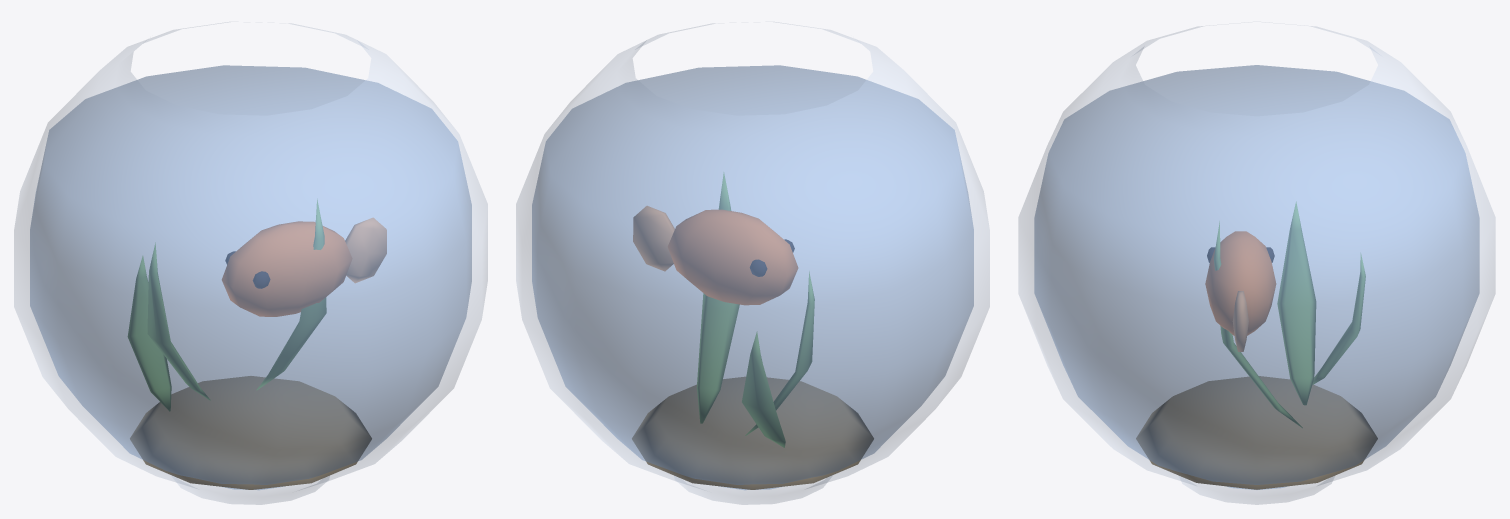
Rendered from fishbowl.glb.
3 renders of one model, left to right at view 1: azimuth 30°, elevation 25°; view 2: azimuth 150°, elevation 25°; view 3: azimuth 270°, elevation 25°, orthographic.
Parts seen in each view (by area): view 1: fishbowl, fish; view 2: fishbowl, fish; view 3: fishbowl, fish.
Part boxes in pixels (x1=…): fishbowl: x1=14, y1=22, x2=487, y2=504; fish: x1=222, y1=218, x2=386, y2=316; fishbowl: x1=516, y1=22, x2=989, y2=504; fish: x1=633, y1=206, x2=797, y2=304; fishbowl: x1=1018, y1=26, x2=1495, y2=504; fish: x1=1205, y1=231, x2=1275, y2=351.
Size of the model in its own units: 0.2954 by 0.28 by 0.2954.
